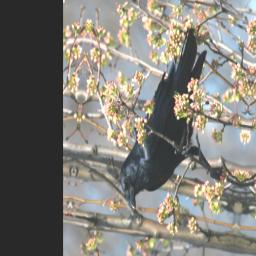Crow: (113, 21, 234, 229)
